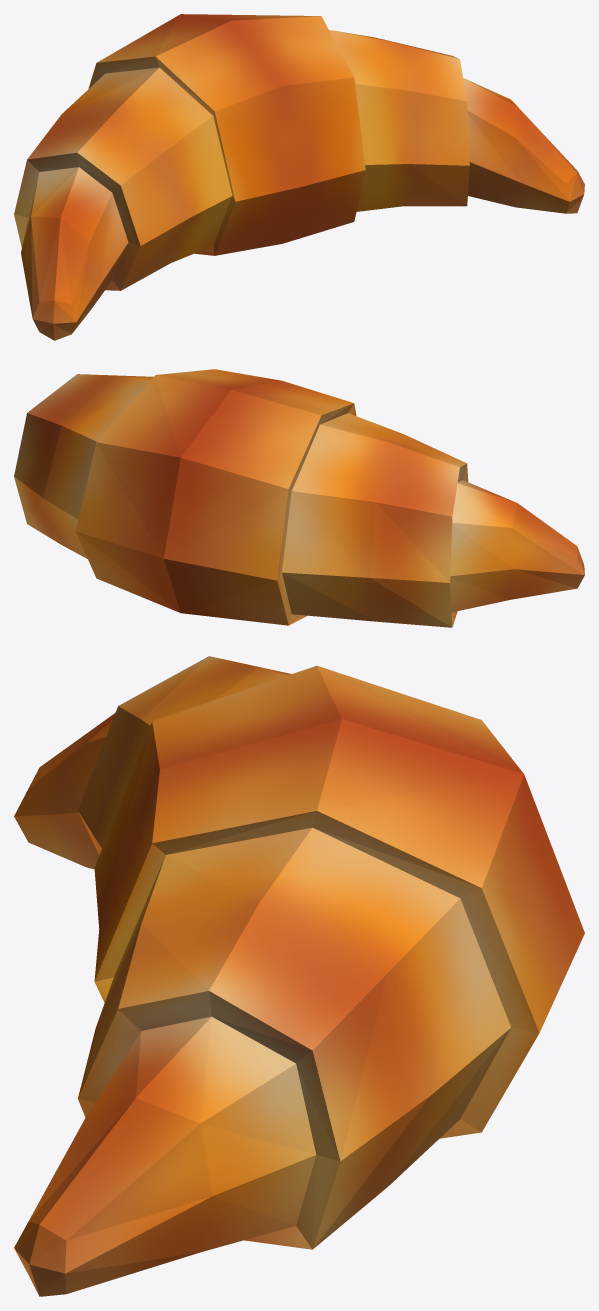
File: croissant.glb
The picture shows the model from 3 angles, top to bottom: view 1: azimuth 30°, elevation 25°; view 2: azimuth 150°, elevation 25°; view 3: azimuth 270°, elevation 25°; orthographic projection. The views are drawn at different scales.
Visible parts, largest first — view 1: Node; view 2: Node; view 3: Node.
Part boxes in pixels (bbox=[...]): Node: bbox=[14, 14, 584, 340]; Node: bbox=[14, 369, 584, 627]; Node: bbox=[14, 656, 584, 1296].
Bounding box in the file's own units: 2.35 × 0.8545 × 1.18.
1 material, 1 textured.
